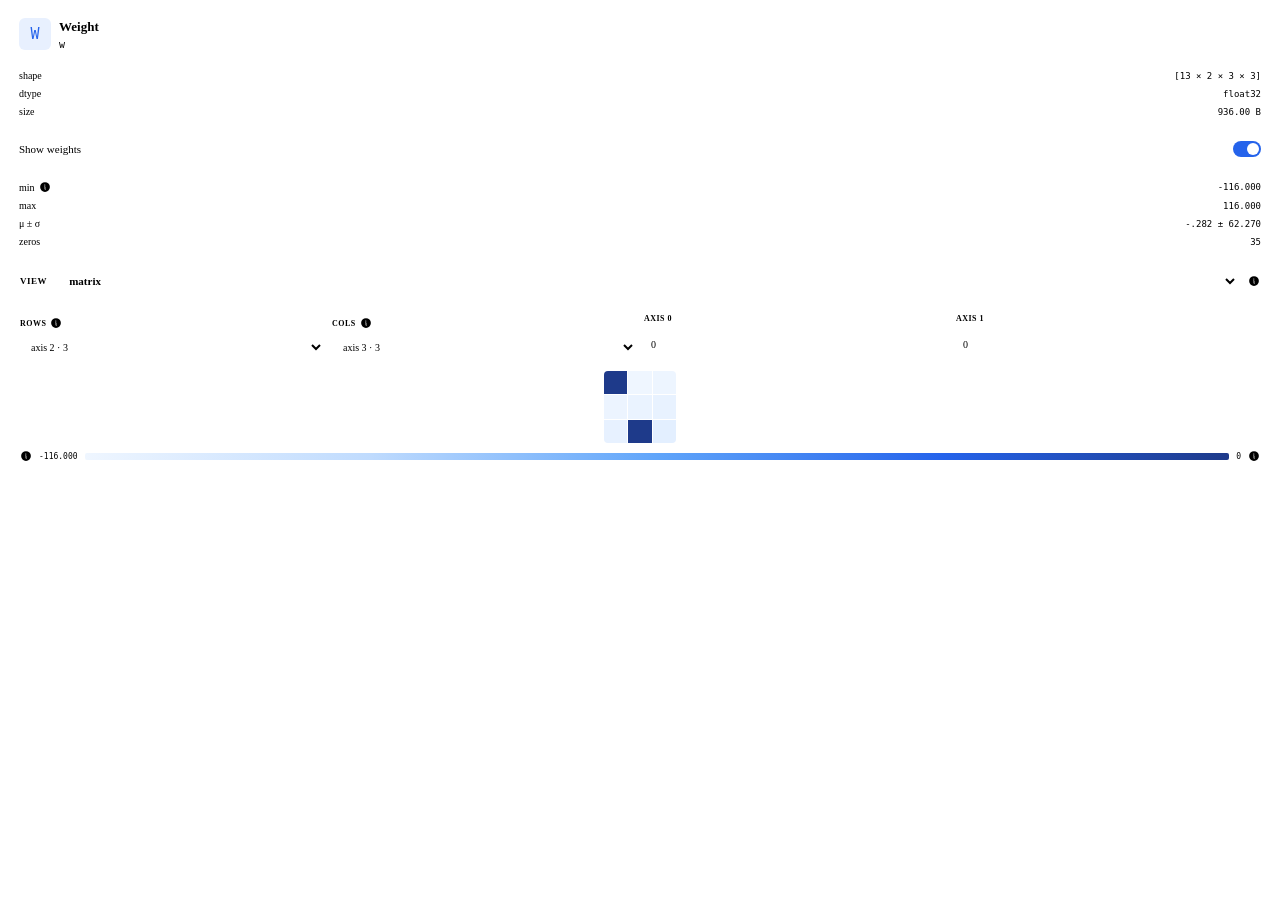
Scenario: kernel gallery pages by filter with a position indicator
This screenshot has width=1280, height=900.
Select "kernel gallery" in the dropdown named "Weight inspector" at (648, 281), box [57,266,1238,296]
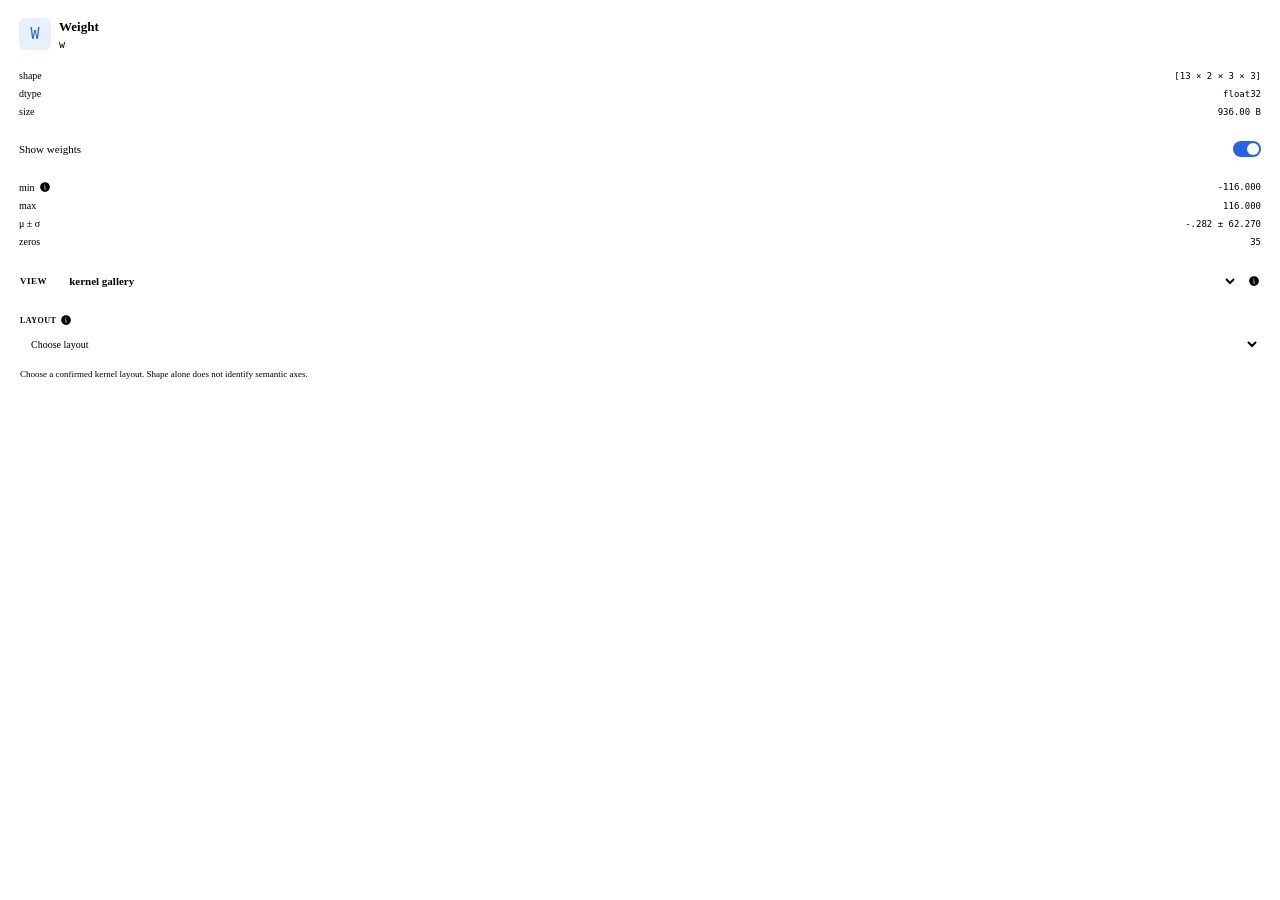
Select "OIHW" in the dropdown named "Kernel layout" at (640, 344), box [20,330,1260,358]
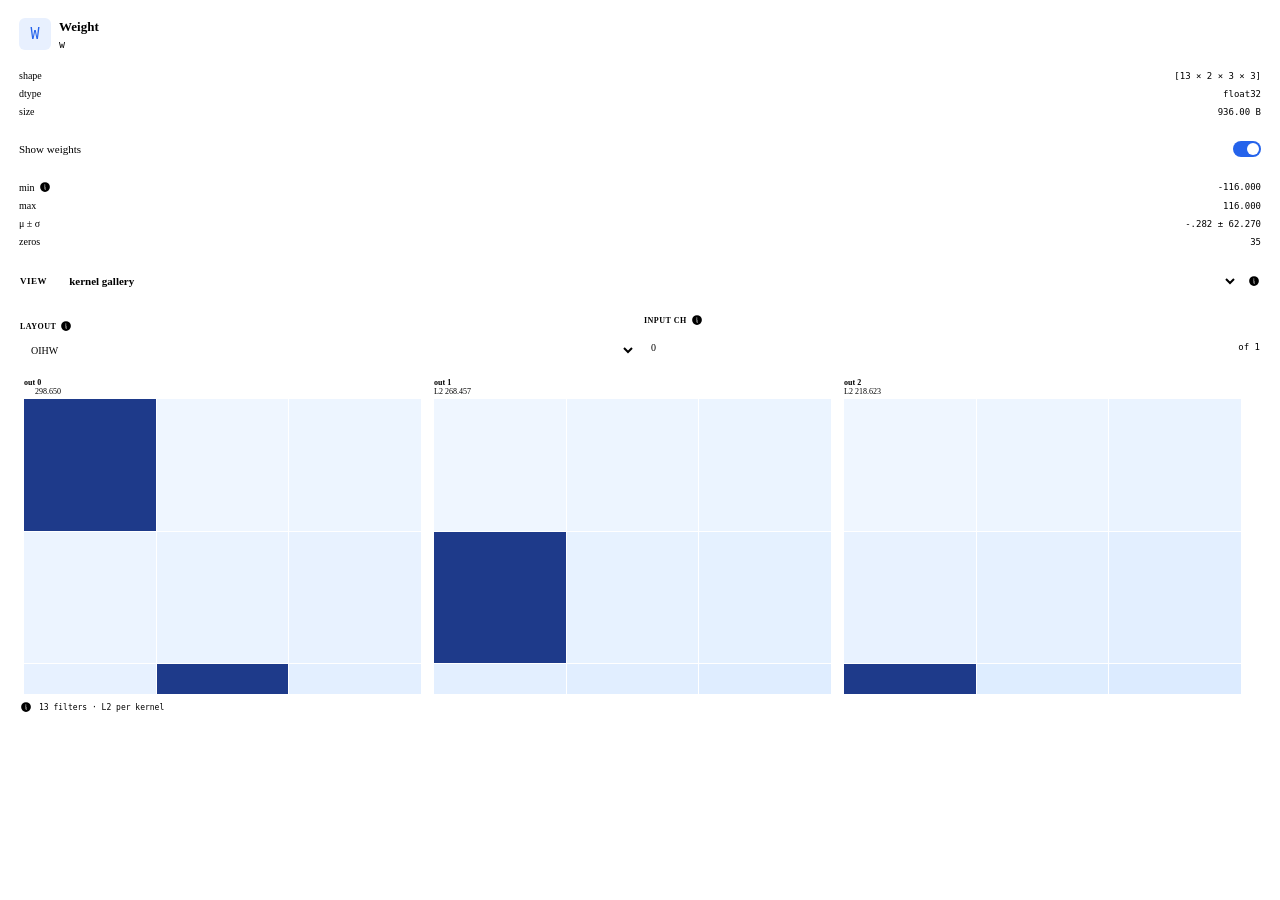
expect the text "out 0" is shown 13 times: met
expect the text with test id "kernel-count" shows "13 filters": met, box [39,702,164,712]
